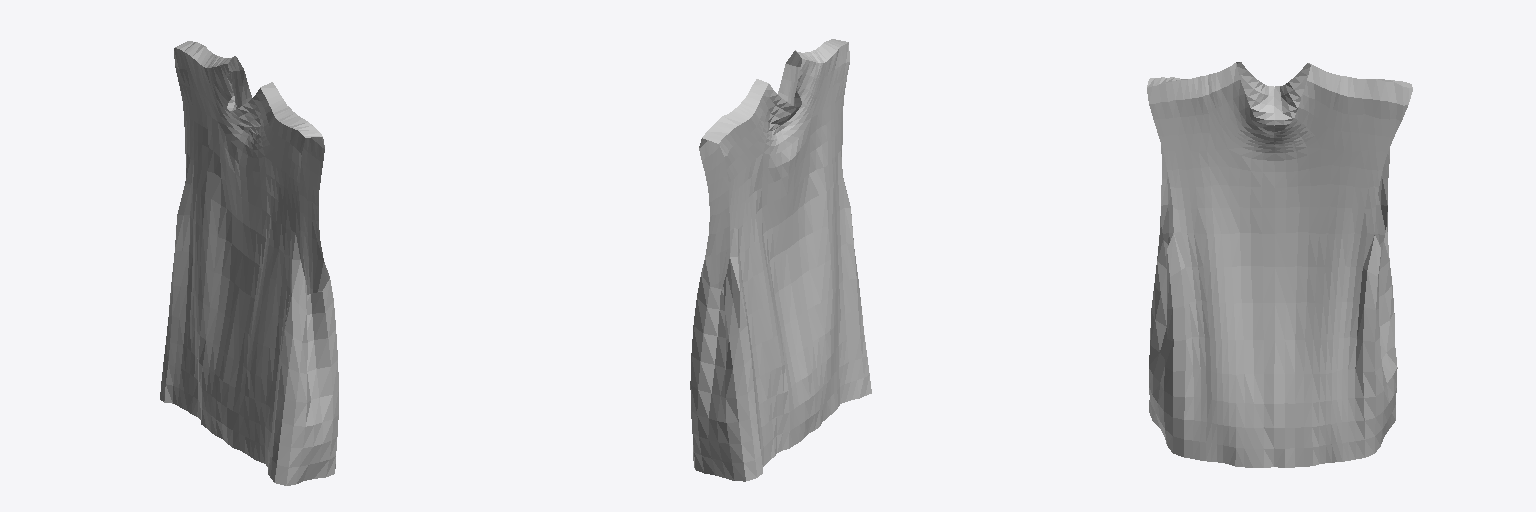
The model's file is tank.obj.
The picture shows the model from 3 angles: view 1: azimuth 30°, elevation 25°; view 2: azimuth 150°, elevation 25°; view 3: azimuth 270°, elevation 25°; orthographic projection.
Visible parts, largest first — view 1: polySurface166 pCylinder7; view 2: polySurface166 pCylinder7; view 3: polySurface166 pCylinder7.
Boxes of the visible parts, <box> form: polySurface166 pCylinder7: <box>160,41,338,485</box>; polySurface166 pCylinder7: <box>690,39,871,481</box>; polySurface166 pCylinder7: <box>1147,62,1412,467</box>.
Size of the model in its own units: 1.24 by 5.2 by 3.29.